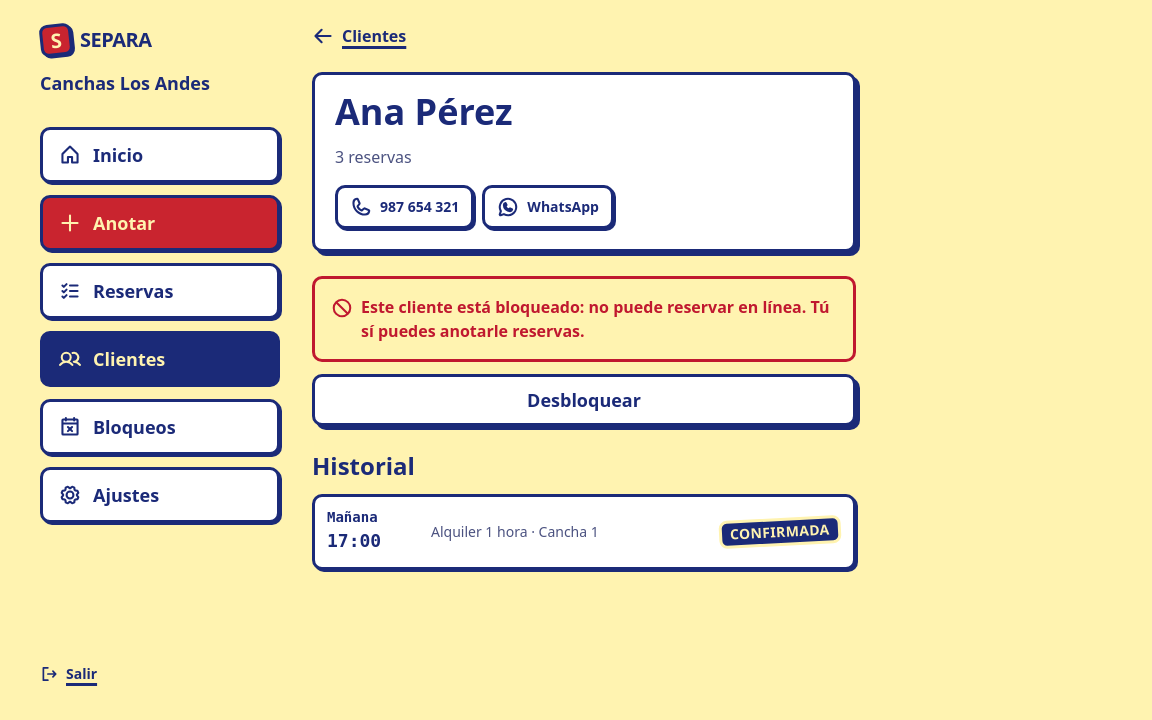
Test: a customer › unblocks in one tap
Click the button "Desbloquear" at {"x": 584, "y": 400}, box [312,374,856,426]
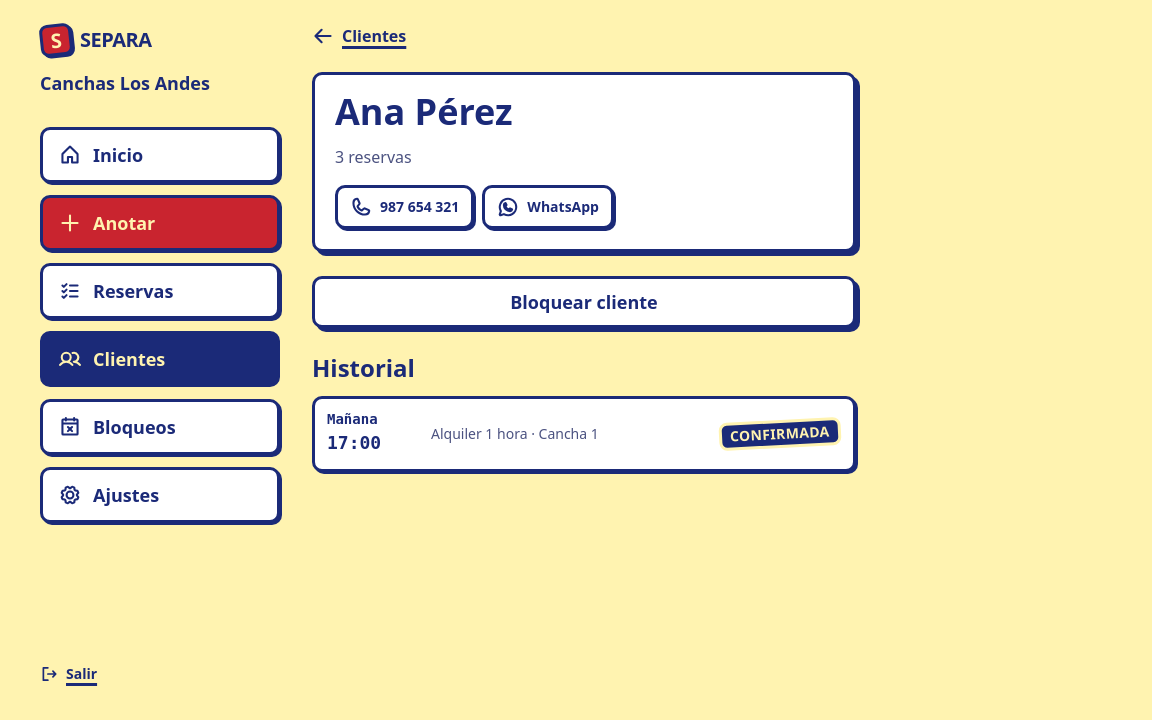
Check: the button "Bloquear cliente" is shown, box [312,276,856,328]
